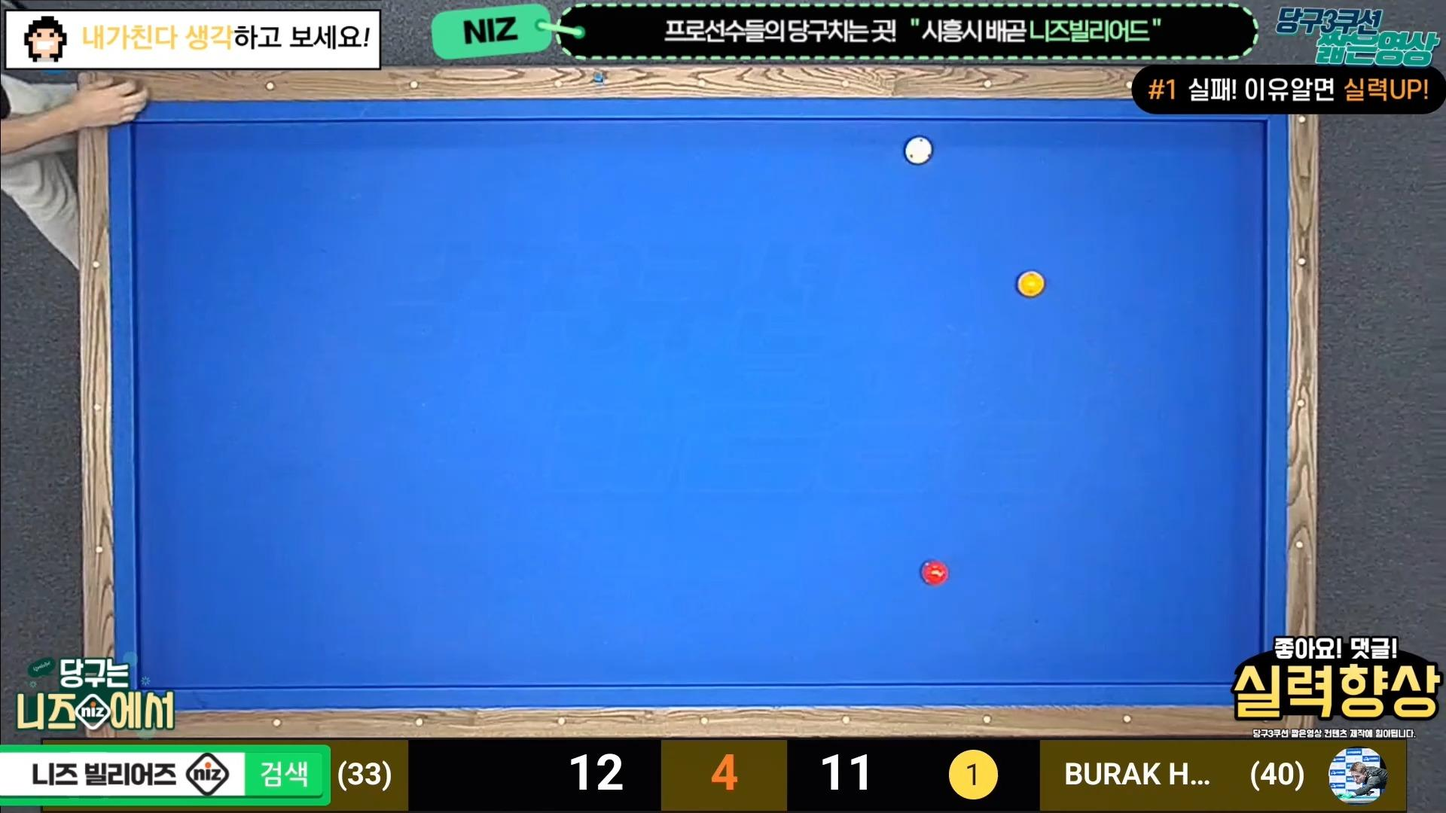-billiard-ball: (903, 135, 933, 165), (1015, 269, 1045, 298)
Red: (922, 562, 955, 588)
White: (900, 136, 935, 165)
Yellow: (1015, 269, 1049, 298)
